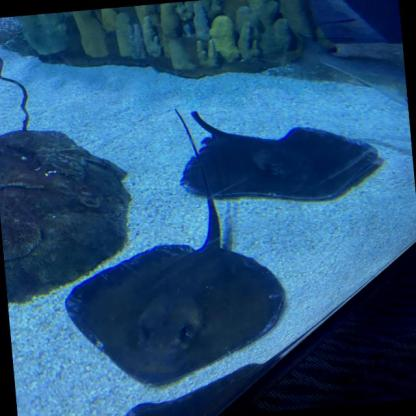fish: (290, 24, 408, 125)
stingray: (61, 234, 292, 393), (178, 121, 383, 214)
